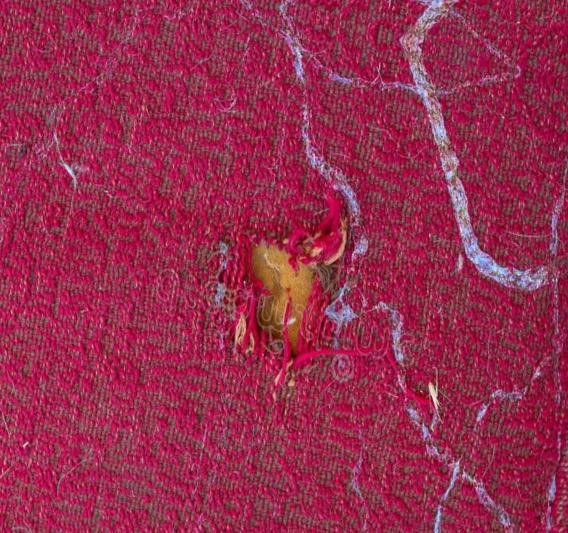hole: (232, 224, 346, 386)
